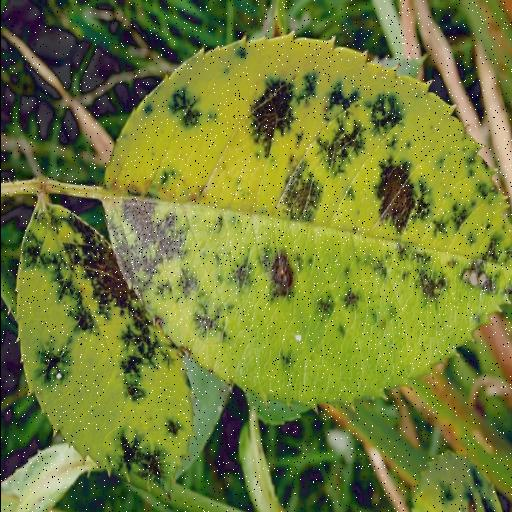downy_mildew: (103, 37, 511, 402), (17, 201, 191, 484), (1, 443, 96, 511), (412, 453, 501, 511), (239, 407, 284, 511)
